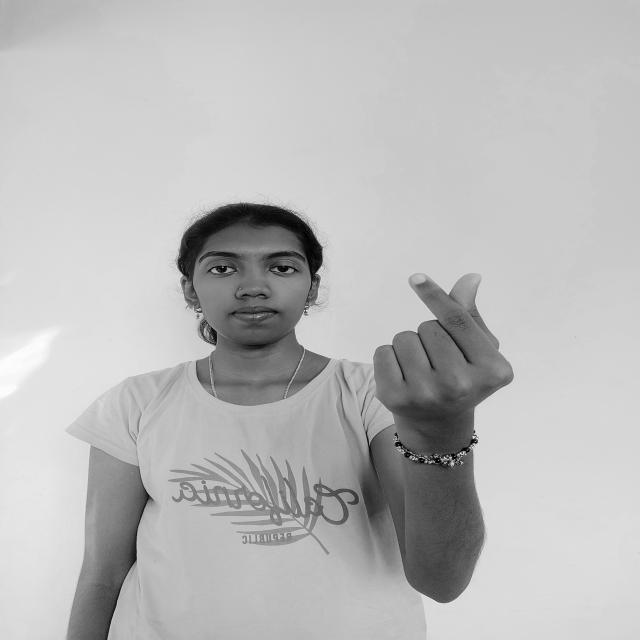Grattitude: (362, 262, 528, 429)
